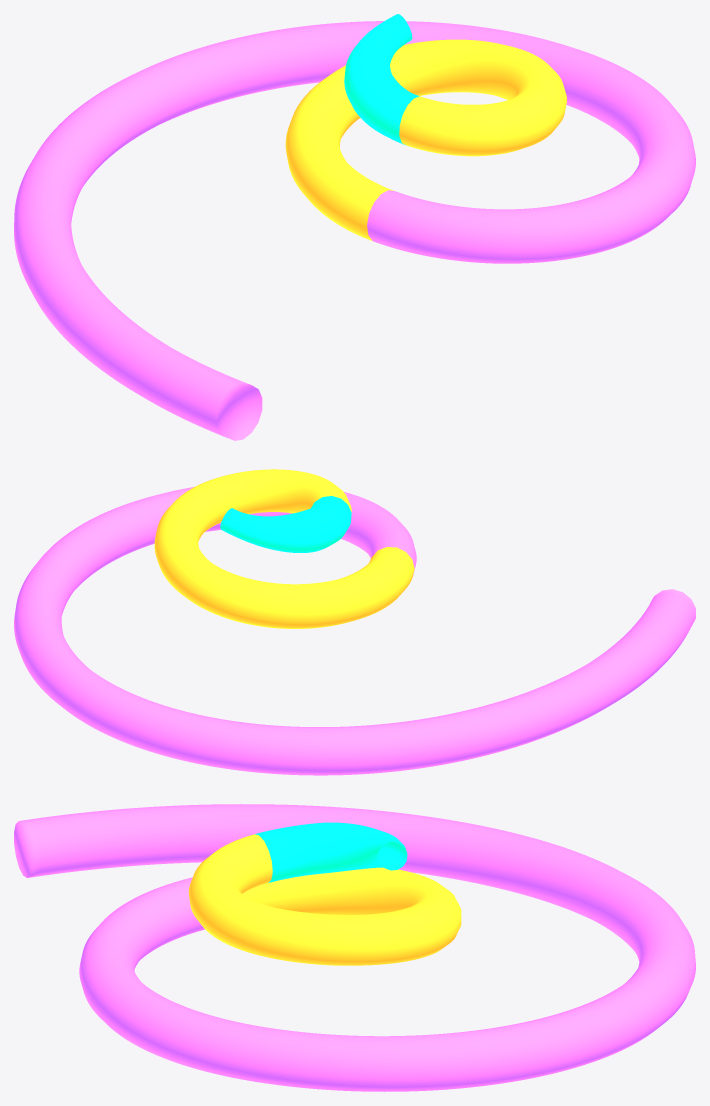
The model's file is blue_whale_noodle.glb.
The picture shows the model from 3 angles, top to bottom: view 1: azimuth 30°, elevation 25°; view 2: azimuth 150°, elevation 25°; view 3: azimuth 270°, elevation 25°; orthographic projection. The views are drawn at different scales.
Parts seen in each view (by area): view 1: Blue whale | TURN COUNT NOODLE | T00_100, Blue whale | TURN COUNT NOODLE | T100_200, Blue whale | TURN COUNT NOODLE | T200_PLUS; view 2: Blue whale | TURN COUNT NOODLE | T00_100, Blue whale | TURN COUNT NOODLE | T100_200, Blue whale | TURN COUNT NOODLE | T200_PLUS; view 3: Blue whale | TURN COUNT NOODLE | T00_100, Blue whale | TURN COUNT NOODLE | T100_200, Blue whale | TURN COUNT NOODLE | T200_PLUS.
Part boxes in pixels (x1=…): Blue whale | TURN COUNT NOODLE | T00_100: x1=14, y1=21, x2=695, y2=440; Blue whale | TURN COUNT NOODLE | T100_200: x1=285, y1=39, x2=566, y2=240; Blue whale | TURN COUNT NOODLE | T200_PLUS: x1=344, y1=14, x2=419, y2=145; Blue whale | TURN COUNT NOODLE | T00_100: x1=14, y1=487, x2=695, y2=775; Blue whale | TURN COUNT NOODLE | T100_200: x1=154, y1=469, x2=414, y2=628; Blue whale | TURN COUNT NOODLE | T200_PLUS: x1=220, y1=496, x2=351, y2=552; Blue whale | TURN COUNT NOODLE | T00_100: x1=14, y1=804, x2=695, y2=1091; Blue whale | TURN COUNT NOODLE | T100_200: x1=188, y1=834, x2=461, y2=965; Blue whale | TURN COUNT NOODLE | T200_PLUS: x1=255, y1=822, x2=407, y2=882.
Size of the model in its own units: 23.05 by 7.1 by 21.95.
